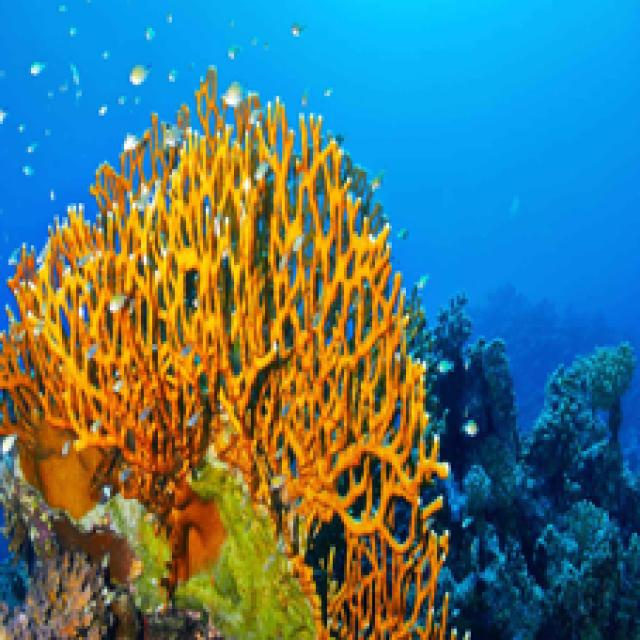Healthy: (1, 71, 446, 638)
